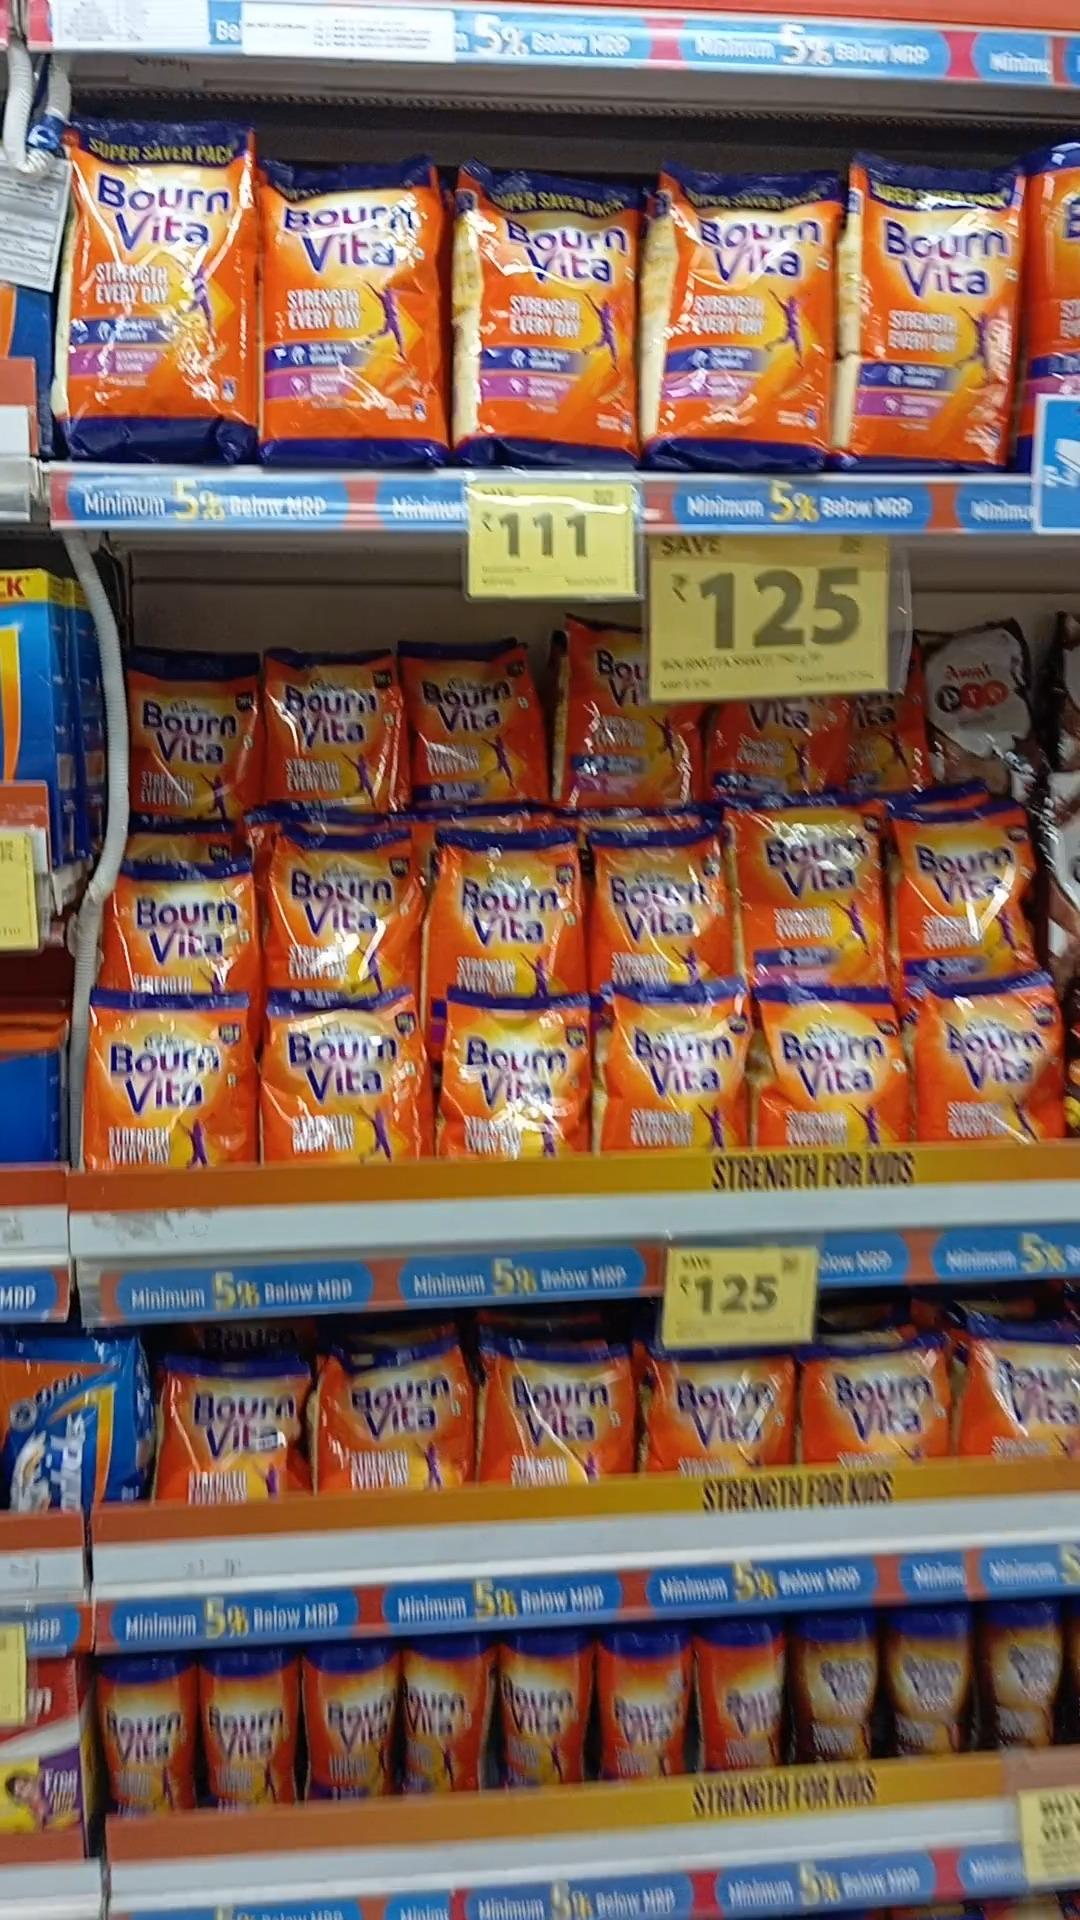BOURN_VITA_1_KG_POUCH: (69, 111, 262, 463), (264, 148, 442, 465), (658, 167, 837, 472), (855, 160, 1019, 472), (463, 166, 630, 464)
BOURN_VITA_500_G_JAR: (596, 1621, 687, 1789), (198, 1647, 291, 1811), (98, 1654, 189, 1817), (500, 1633, 580, 1808), (303, 1643, 390, 1804), (401, 1635, 481, 1800), (702, 1626, 787, 1778)
BOURN_VITA_500_G_POUCH: (322, 1350, 467, 1503), (165, 1362, 305, 1506), (491, 1354, 633, 1487), (802, 1344, 944, 1470), (650, 1349, 785, 1477), (956, 1336, 1080, 1464)
BOURN_VITA_750_G_POUCH: (84, 990, 251, 1175), (269, 997, 423, 1172), (266, 820, 418, 989), (741, 798, 880, 982), (558, 633, 698, 815), (924, 980, 1079, 1143), (444, 996, 592, 1166), (895, 802, 1035, 980), (442, 831, 587, 1000), (405, 644, 541, 820), (612, 980, 744, 1160), (758, 989, 905, 1151), (117, 657, 248, 824), (261, 642, 389, 811), (108, 858, 269, 990), (593, 818, 716, 980)
BOURN_VITA_FIVE_STAR_MAGIC_500_G_JAR: (981, 1598, 1076, 1762), (891, 1601, 972, 1764), (804, 1606, 881, 1771)
HORLICK_CLASSIC_MALT_750_G_POUCH: (0, 1335, 133, 1511)
